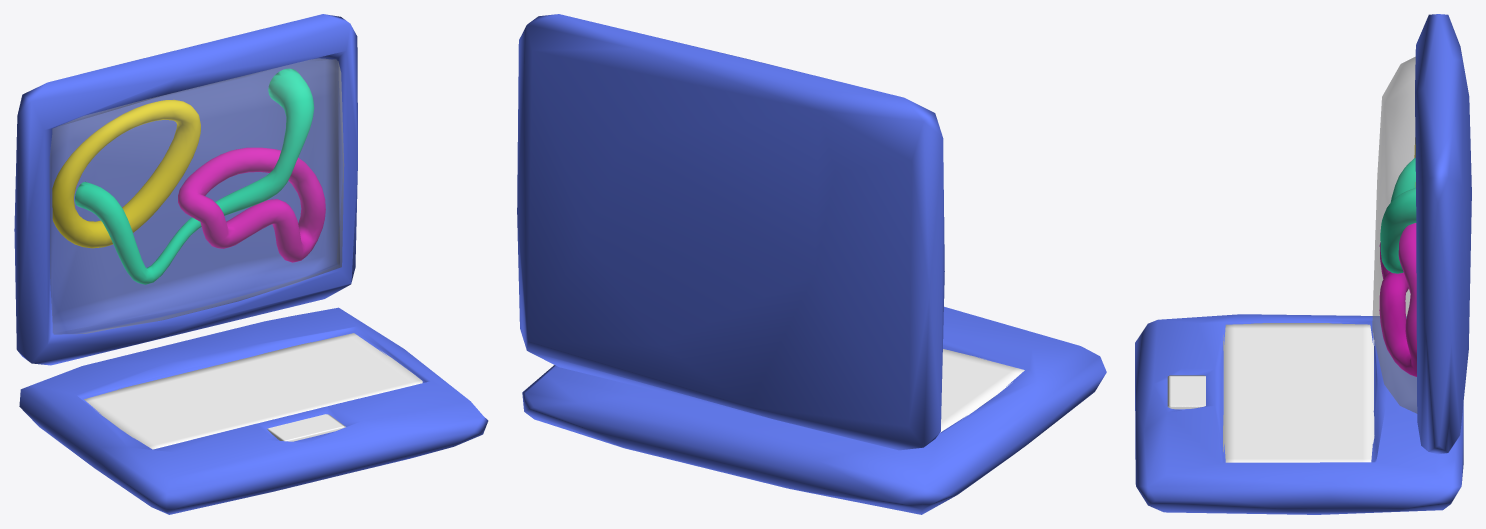
Rendered from laptop-ver2.glb.
3 renders of one model, left to right at view 1: azimuth 30°, elevation 25°; view 2: azimuth 150°, elevation 25°; view 3: azimuth 270°, elevation 25°, orthographic. The views are drawn at different scales.
Visible parts, largest first — view 1: monitor, window, keyboard, Tube (×3), Box 2, Box 1; view 2: monitor, keyboard, Box 2; view 3: keyboard, monitor, Box 2, window, Tube (×2), Box 1.
Part boxes in pixels (x1,y1,x2,y2): monitor: (14, 14, 357, 365); window: (50, 58, 344, 334); keyboard: (19, 307, 488, 514); Tube (×3): (52, 68, 325, 284); Box 2: (84, 333, 422, 449); Box 1: (267, 414, 345, 441); monitor: (517, 14, 944, 450); keyboard: (522, 306, 1106, 514); Box 2: (940, 349, 1024, 432); keyboard: (1135, 314, 1463, 514); monitor: (1415, 14, 1471, 454); Box 2: (1223, 323, 1374, 462); window: (1372, 57, 1417, 413); Tube (×2): (1379, 158, 1416, 376); Box 1: (1167, 375, 1205, 409).
Bounding box in the file's own units: 0.9531 × 0.9046 × 0.7729.
